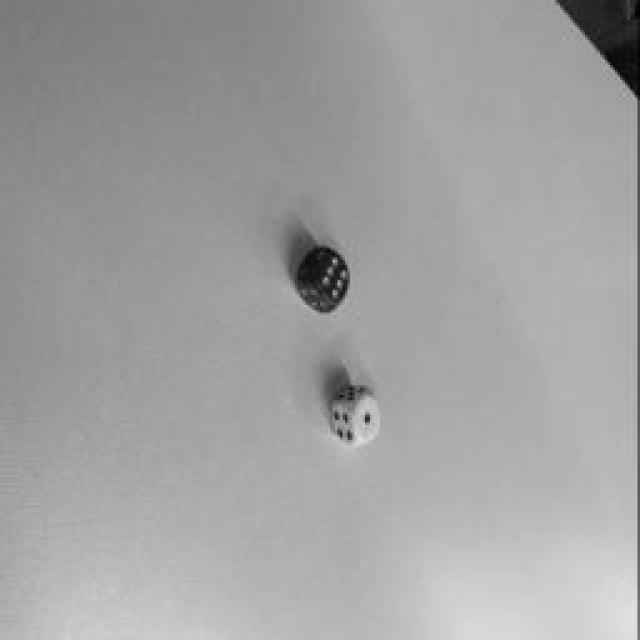dice_1: (354, 394, 381, 444)
dice_6: (318, 250, 350, 305)
